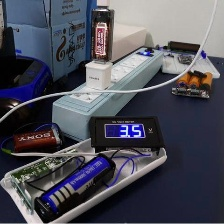battery: (38, 153, 111, 219), (13, 125, 63, 155), (176, 70, 192, 93), (199, 70, 214, 94), (187, 71, 203, 93)
book: (0, 0, 110, 85)
three_eye_plug: (45, 42, 166, 148)
